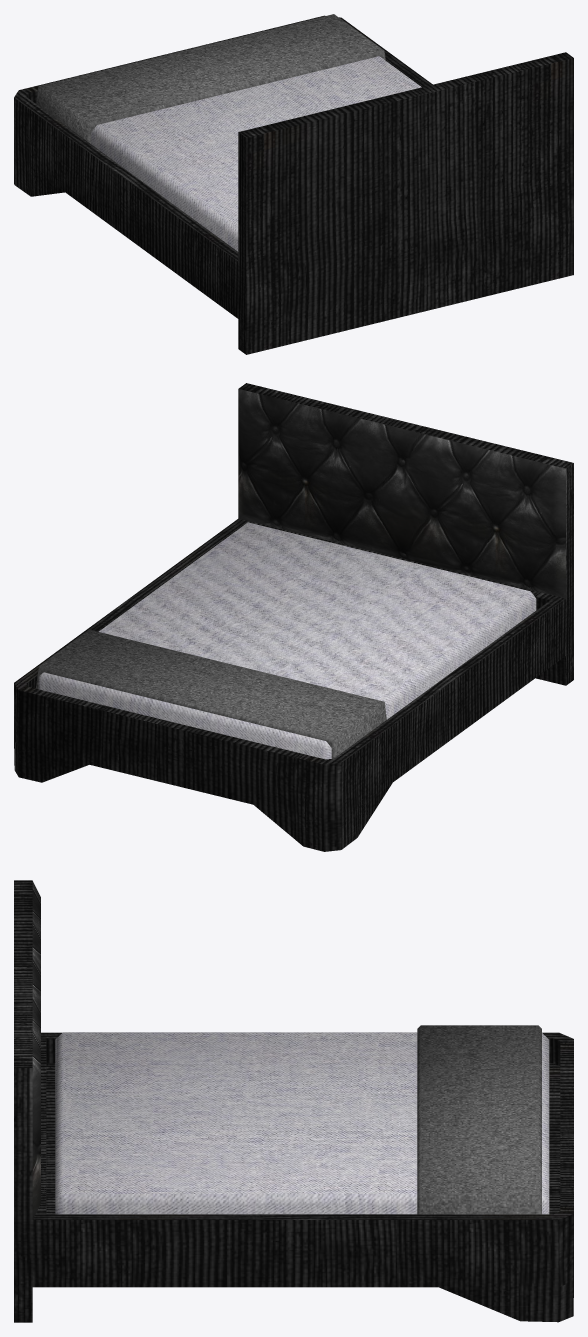
File: Bed_01.glb
The picture shows the model from 3 angles, top to bottom: view 1: azimuth 30°, elevation 25°; view 2: azimuth 150°, elevation 25°; view 3: azimuth 270°, elevation 25°; orthographic projection. The views are drawn at different scales.
Parts seen in each view (by area): view 1: Bed_01; view 2: Bed_01; view 3: Bed_01.
Boxes of the visible parts, x1,y1,x2,y2 form: Bed_01: (14, 14, 573, 354); Bed_01: (14, 383, 573, 851); Bed_01: (14, 880, 573, 1322).
Size of the model in its own units: 2.24 by 1.42 by 2.82.
4 materials, 4 textured.
